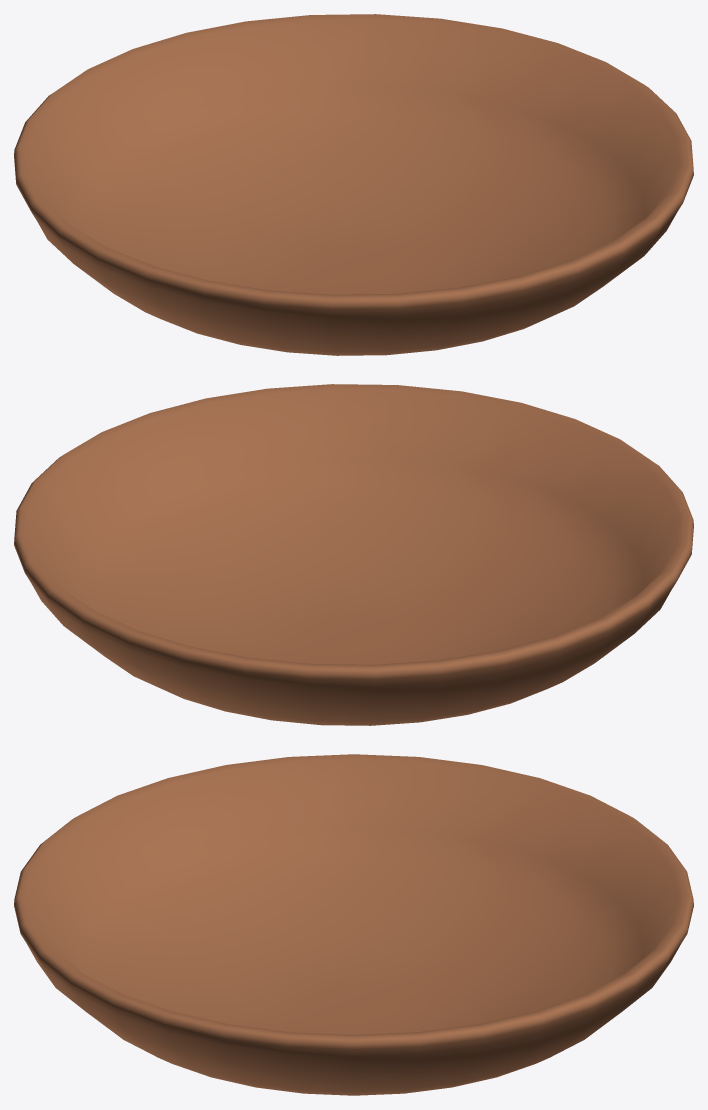
The model's file is Obstschale.fbx.
The picture shows the model from 3 angles, top to bottom: view 1: azimuth 30°, elevation 25°; view 2: azimuth 150°, elevation 25°; view 3: azimuth 270°, elevation 25°; orthographic projection.
Visible parts, largest first — view 1: Obstschale; view 2: Obstschale; view 3: Obstschale.
Part boxes in pixels (left/top/right/bottom): Obstschale: left=14, top=14, right=693, bottom=355; Obstschale: left=14, top=384, right=693, bottom=725; Obstschale: left=14, top=754, right=693, bottom=1095.
Size of the model in its own units: 206 by 43.62 by 206.
